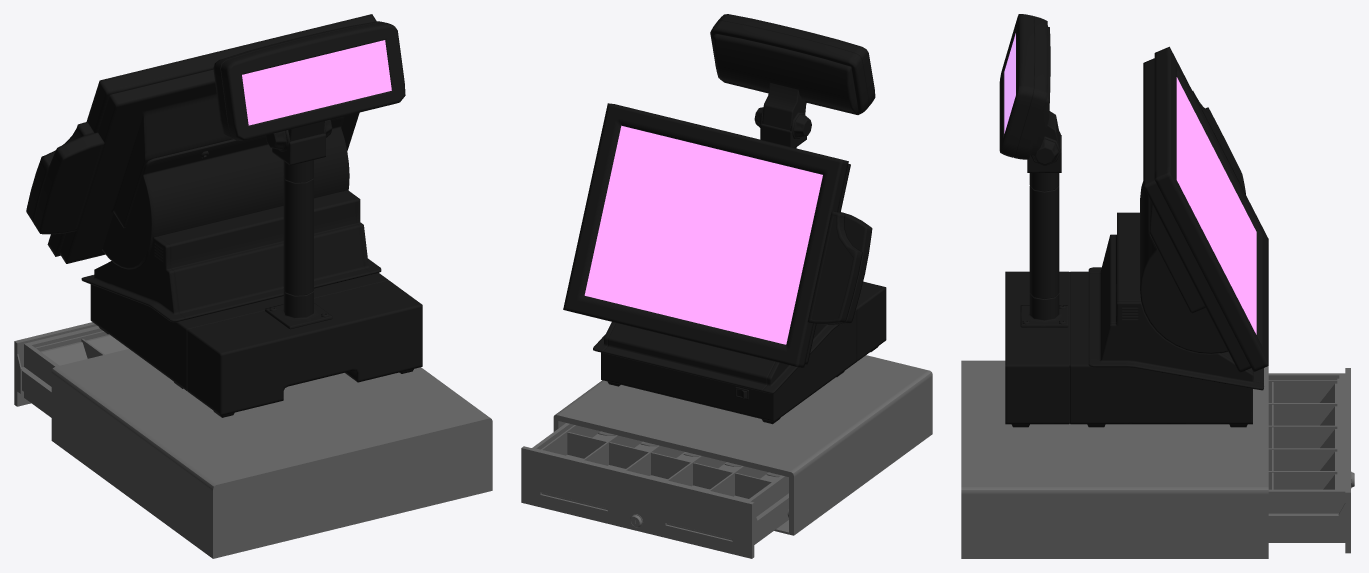
The model's file is Register.fbx.
3 renders of one model, left to right at view 1: azimuth 30°, elevation 25°; view 2: azimuth 150°, elevation 25°; view 3: azimuth 270°, elevation 25°, orthographic. The views are drawn at different scales.
Visible parts, largest first — view 1: register:polySurface1, registerd:polySurface1; view 2: register:polySurface1, registerd:polySurface1; view 3: register:polySurface1, registerd:polySurface1.
Boxes of the visible parts, x1,y1,x2,y2 form: register:polySurface1: [26, 14, 422, 417]; registerd:polySurface1: [14, 322, 492, 558]; register:polySurface1: [563, 14, 886, 424]; registerd:polySurface1: [521, 355, 932, 558]; register:polySurface1: [999, 14, 1268, 427]; registerd:polySurface1: [961, 360, 1354, 558].
Bounding box in the file's own units: 1.45 × 1.99 × 1.61.
